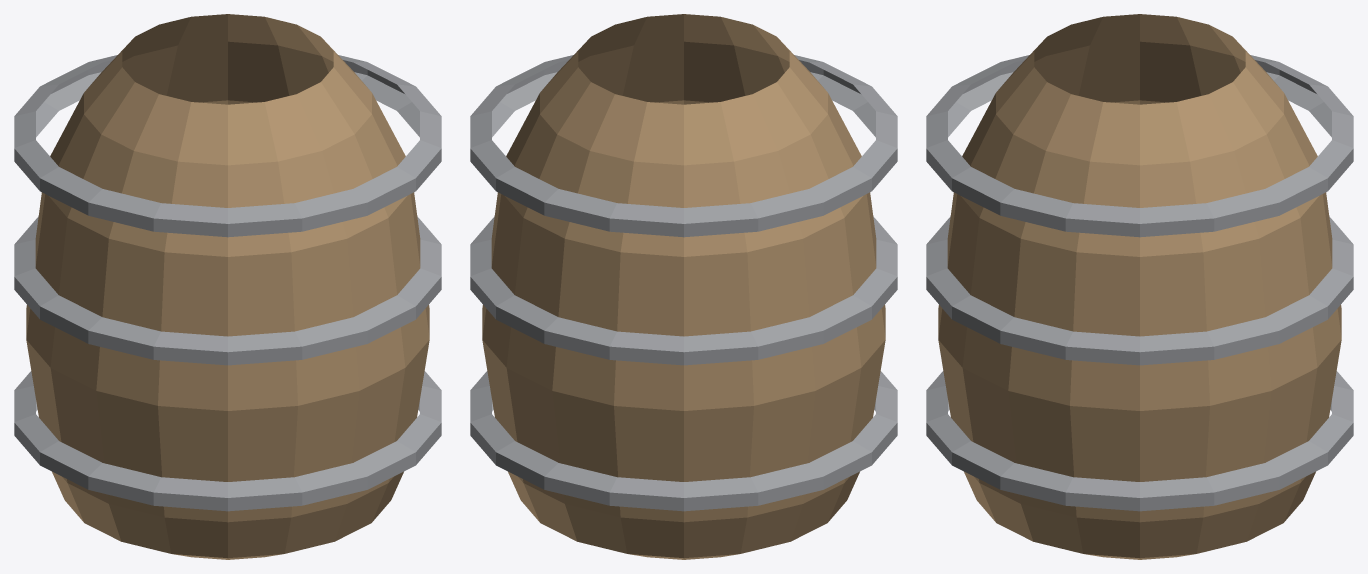
File: barrel.glb
3 renders of one model, left to right at view 1: azimuth 30°, elevation 25°; view 2: azimuth 150°, elevation 25°; view 3: azimuth 270°, elevation 25°, orthographic.
Parts seen in each view (by area): view 1: barrel, hoops; view 2: barrel, hoops; view 3: barrel, hoops.
Boxes of the visible parts, x1,y1,x2,y2 form: barrel: [26, 14, 429, 559]; hoops: [14, 55, 441, 511]; barrel: [482, 14, 885, 559]; hoops: [470, 55, 897, 511]; barrel: [938, 14, 1341, 559]; hoops: [926, 55, 1353, 511].
Size of the model in its own units: 0.89 by 1.03 by 0.8765.
